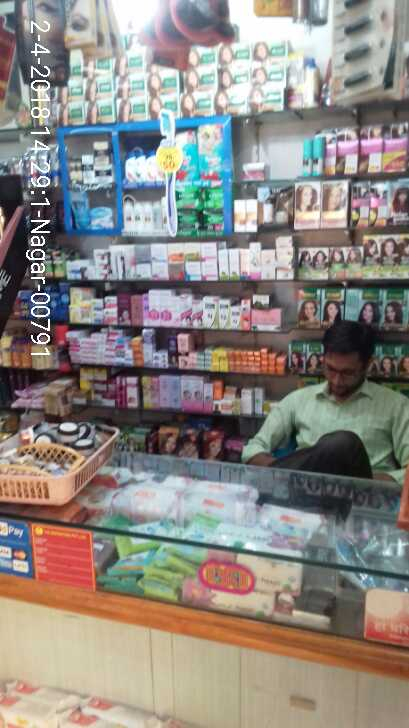gillete: (314, 137, 326, 175), (304, 138, 313, 175)
venus: (73, 194, 93, 226), (93, 205, 114, 226)
